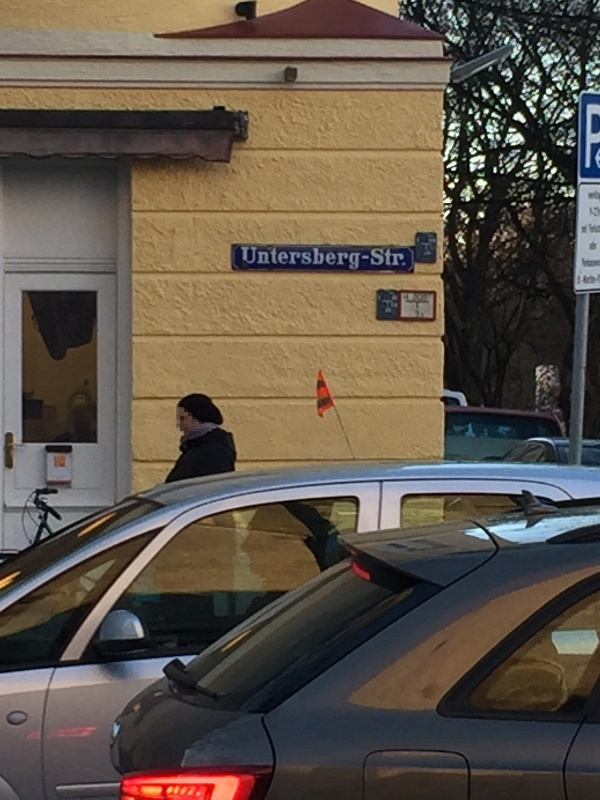text: (545, 364, 559, 414), (593, 105, 600, 169), (536, 364, 544, 414), (257, 246, 272, 272), (273, 246, 288, 272), (289, 246, 304, 272), (305, 246, 320, 272), (321, 246, 336, 272), (337, 246, 352, 272), (586, 105, 592, 169), (242, 246, 256, 272), (385, 247, 400, 267), (371, 247, 384, 267), (353, 246, 362, 272), (577, 274, 592, 285), (401, 247, 407, 267), (582, 257, 592, 267), (582, 225, 592, 233), (593, 274, 600, 285), (593, 207, 600, 217), (593, 224, 600, 234), (593, 257, 600, 267), (593, 191, 600, 200), (588, 224, 592, 234), (588, 191, 592, 200), (593, 241, 597, 250), (362, 255, 368, 260), (590, 207, 592, 217), (590, 241, 592, 250)
